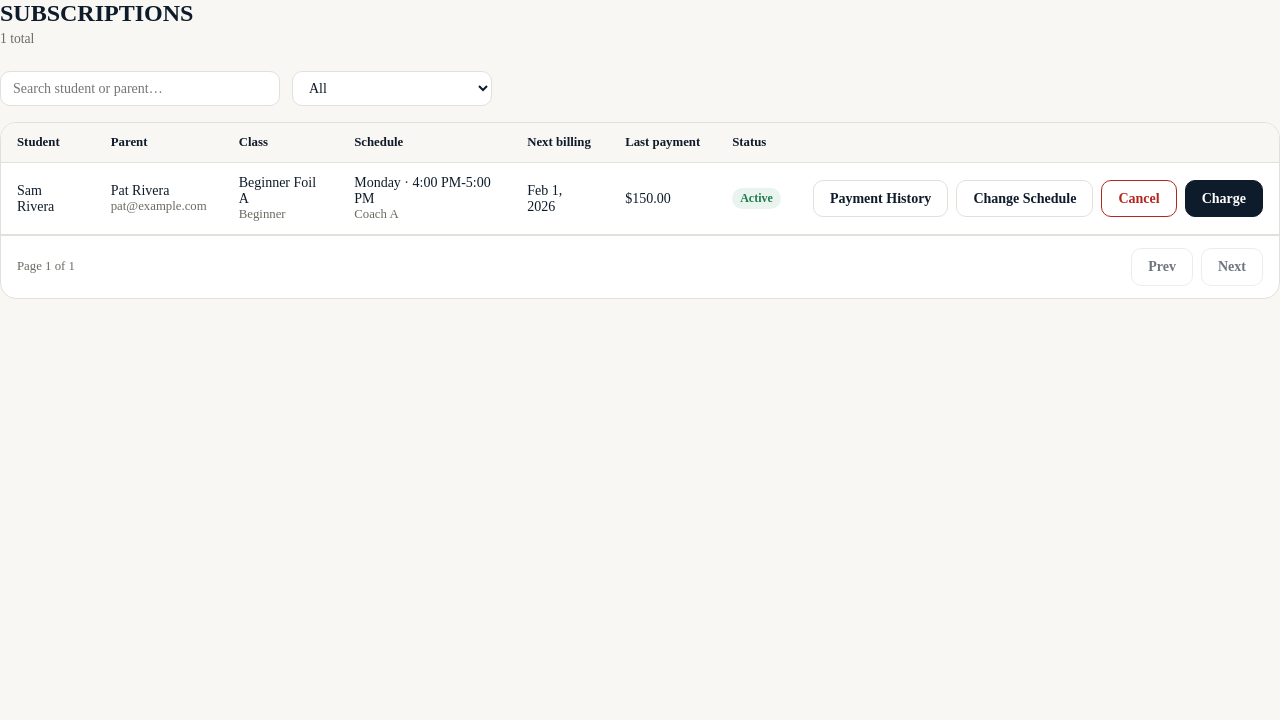
AdminSubscriptionsPage › shows the backend 409 message inline and keeps the dialog open on failure
Expected: the text "Sam Rivera" is shown, [1,162,95,234]
Click the button "Change Schedule".
click(1025, 198)  # box [956,180,1094,217]
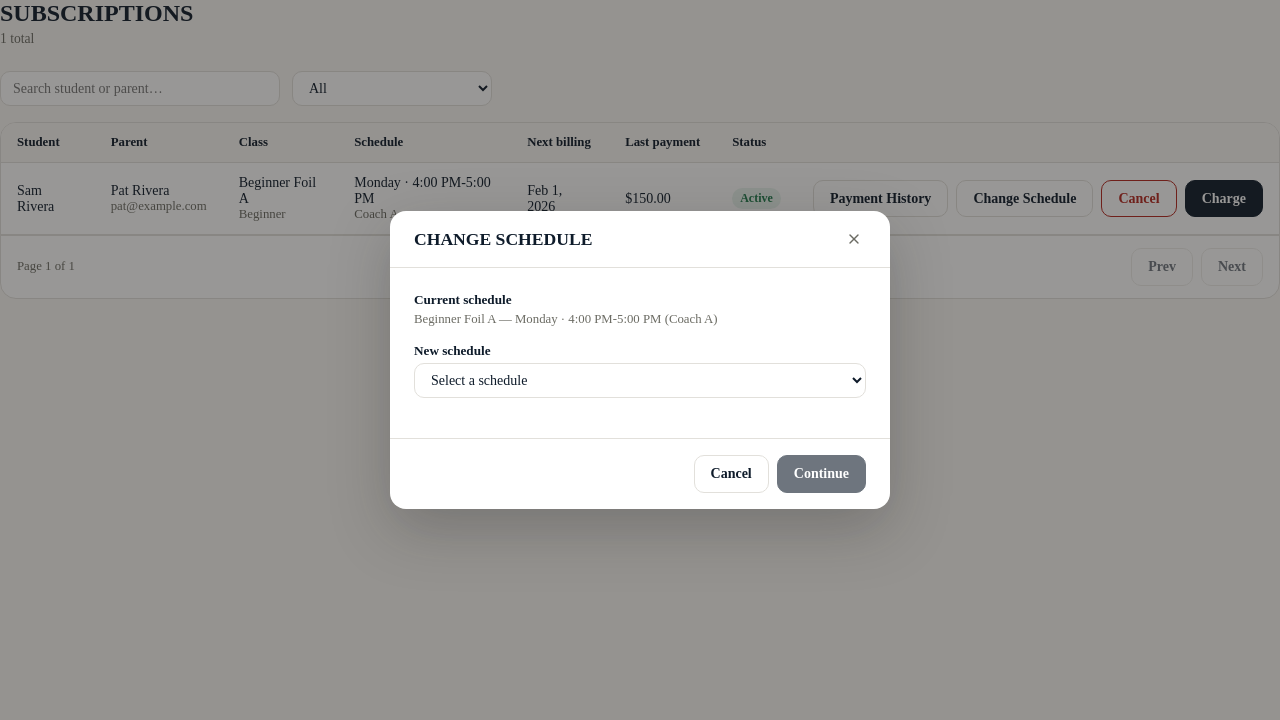
Select "Beginner Foil B — Wednesday 5:00 PM-6:00 PM" in the dropdown labelled "New schedule" at (640, 381), box [414,363,866,398]
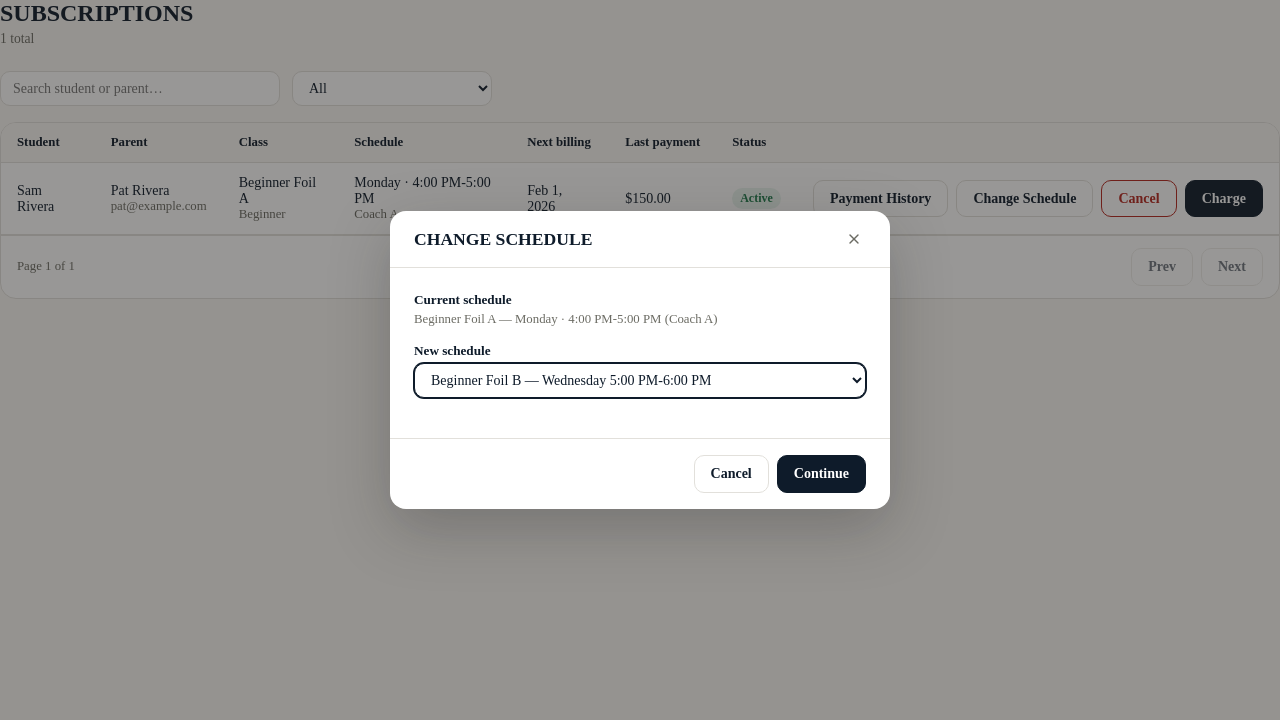
Click the button "Continue".
click(821, 474)  # box [777,455,866,493]
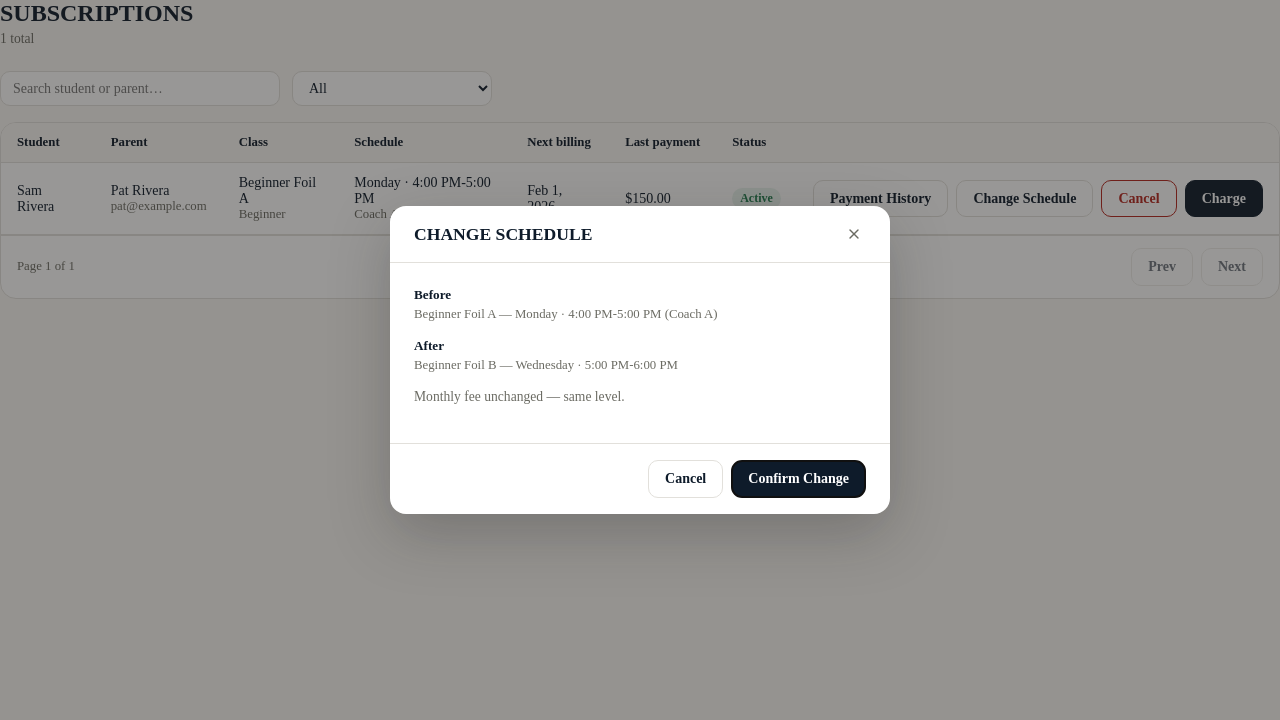
Click the button "Confirm Change".
click(799, 479)  # box [731,460,866,498]
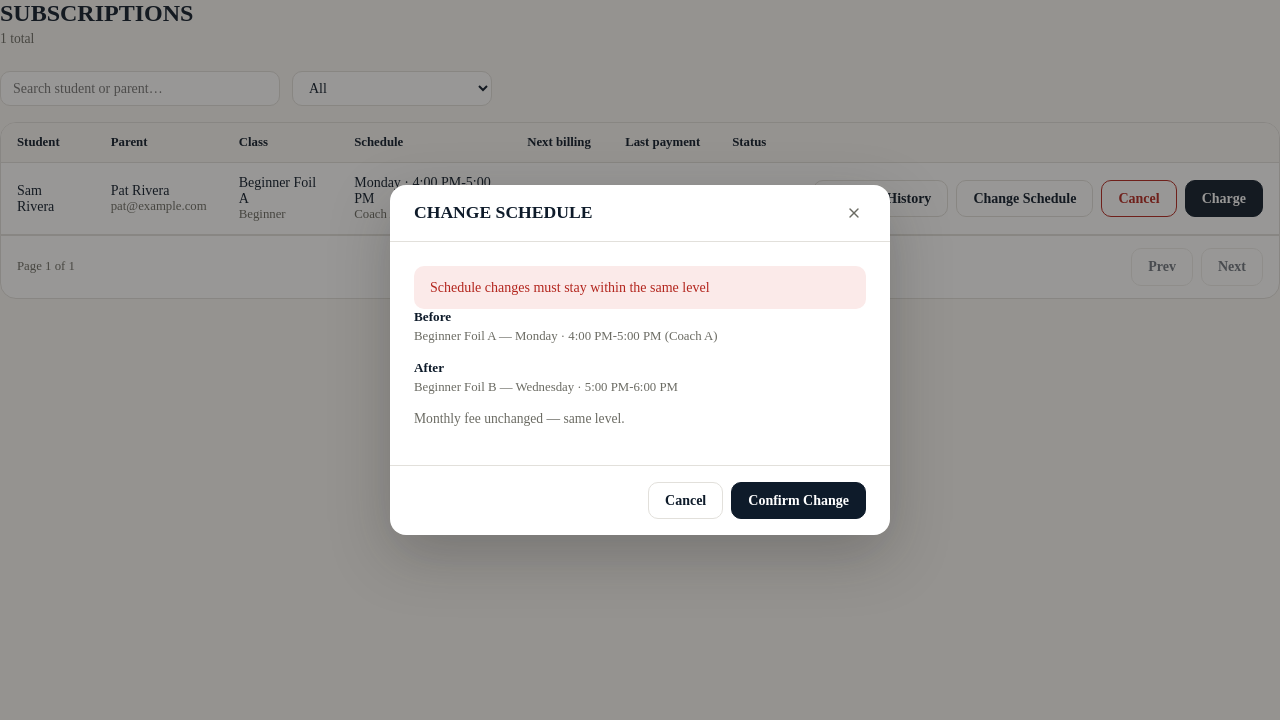
Expected: the dialog "Change Schedule" is shown, [390,185,890,535]
Expected: the text "Schedule changes must stay within the same level" is shown, [414,266,866,309]
